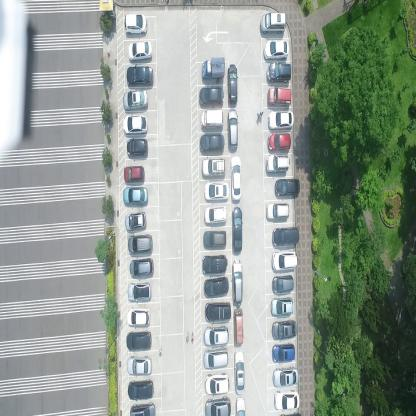car: (200, 56, 225, 82), (204, 370, 230, 395), (273, 364, 299, 388), (203, 275, 229, 299), (126, 66, 154, 88), (260, 11, 286, 34), (274, 389, 300, 412), (203, 325, 229, 348), (204, 301, 231, 323), (127, 378, 154, 400), (231, 205, 243, 254), (267, 60, 291, 84), (272, 250, 298, 272), (203, 180, 229, 202), (203, 347, 229, 369), (127, 40, 153, 62), (127, 233, 153, 255), (267, 109, 294, 130), (126, 354, 153, 375), (231, 258, 243, 305), (204, 395, 232, 415), (124, 13, 148, 36), (263, 38, 288, 60), (201, 156, 226, 178), (123, 89, 148, 111), (123, 186, 148, 208), (272, 225, 299, 245), (128, 282, 152, 304), (272, 320, 297, 341), (199, 109, 224, 130), (198, 86, 224, 106), (199, 132, 225, 152), (202, 254, 228, 274), (122, 114, 148, 134), (128, 258, 154, 278), (126, 331, 152, 351), (231, 155, 242, 202), (234, 348, 245, 395), (268, 85, 291, 107), (266, 153, 290, 174), (227, 108, 239, 150), (274, 179, 300, 198), (124, 211, 146, 233), (267, 131, 291, 151), (266, 201, 290, 221), (204, 205, 228, 225), (203, 229, 227, 249), (127, 307, 151, 327), (227, 63, 238, 106), (272, 342, 294, 363), (126, 137, 148, 158), (271, 297, 294, 317), (272, 273, 294, 293), (123, 165, 145, 183), (234, 305, 244, 344), (130, 401, 156, 415), (236, 396, 246, 415)
